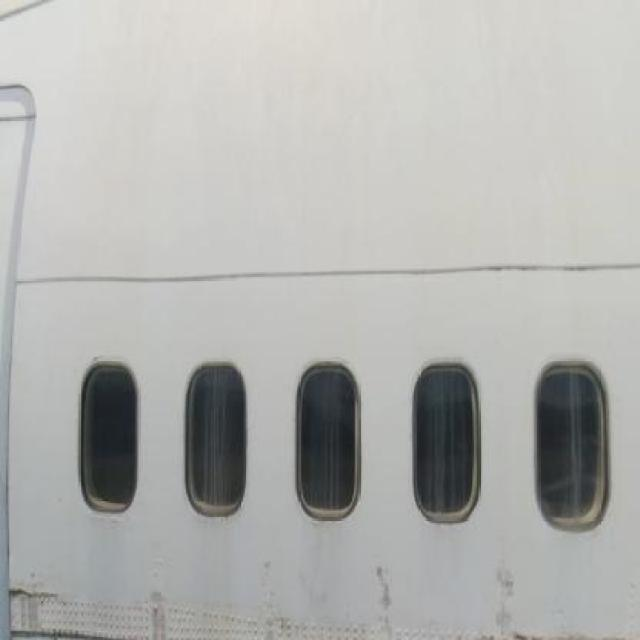Scartch: (12, 552, 66, 640), (249, 541, 295, 640), (477, 547, 524, 640), (362, 546, 403, 640), (144, 558, 174, 640)
